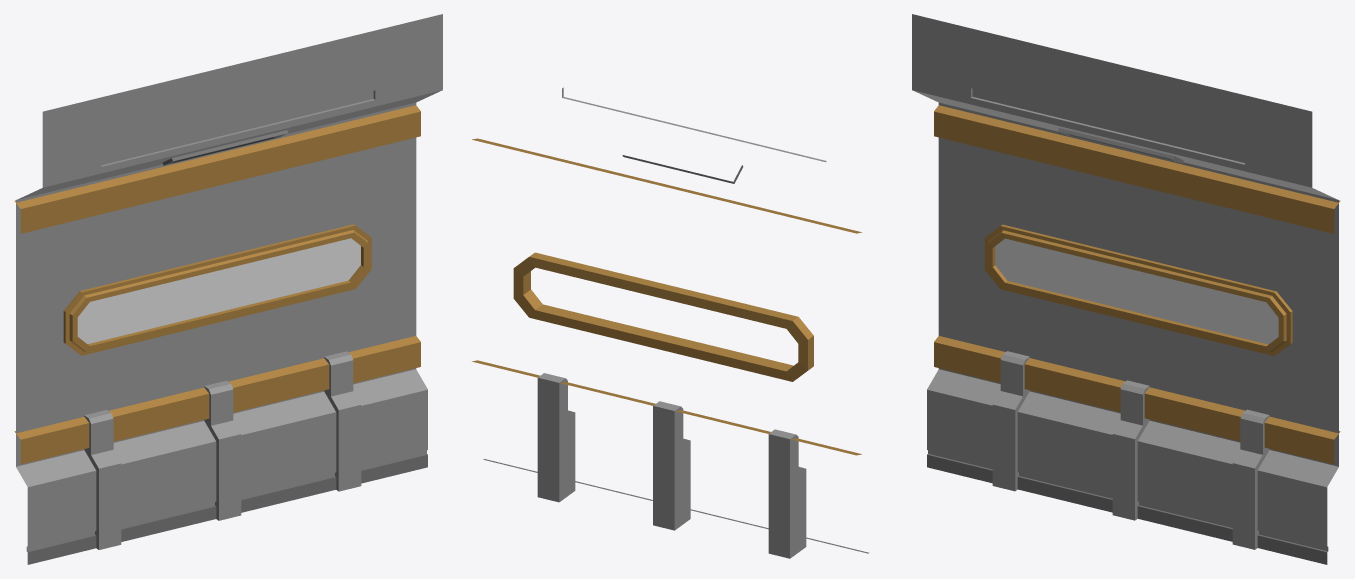
Rendered from quaternius-modular-sci-fi-long-window-wall-side-b.glb.
3 renders of one model, left to right at view 1: azimuth 30°, elevation 25°; view 2: azimuth 150°, elevation 25°; view 3: azimuth 330°, elevation 25°, orthographic. The views are drawn at different scales.
Visible parts, largest first — view 1: LongWindow_Wall_SideB; view 2: LongWindow_Wall_SideB; view 3: LongWindow_Wall_SideB.
Part boxes in pixels (box(x1,y1,x2,y2)): LongWindow_Wall_SideB: box(14, 14, 442, 564); LongWindow_Wall_SideB: box(472, 87, 869, 558); LongWindow_Wall_SideB: box(912, 14, 1340, 564).
Size of the model in its own units: 4 by 4.43 by 0.5355.
